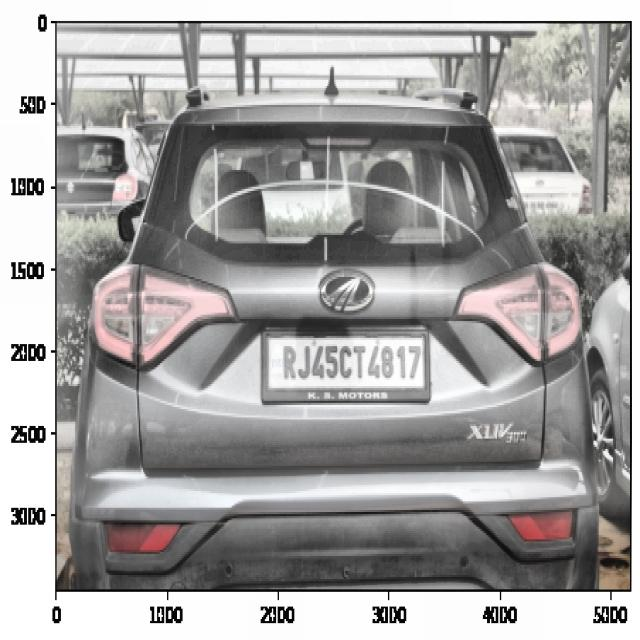license_plate: (272, 330, 428, 394)
